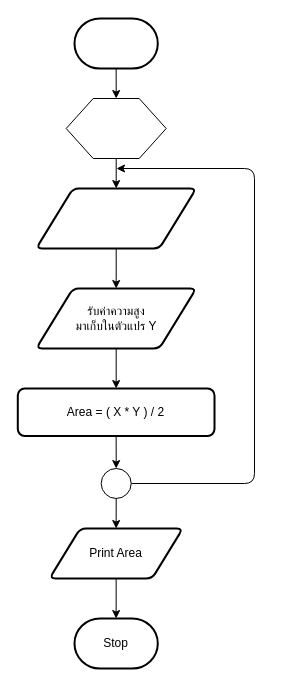
Some shapes in this 281 by 686 pixel diagram are drawn without their labels. The shapes that lost their labels are listed below. From the top down, each one's box as (x1, y1, x2, y2) in pixels, then its label:
(73, 17, 158, 69): Start
(35, 187, 197, 249): รับค่าความยาว มาเก็บในตัวแปร X
